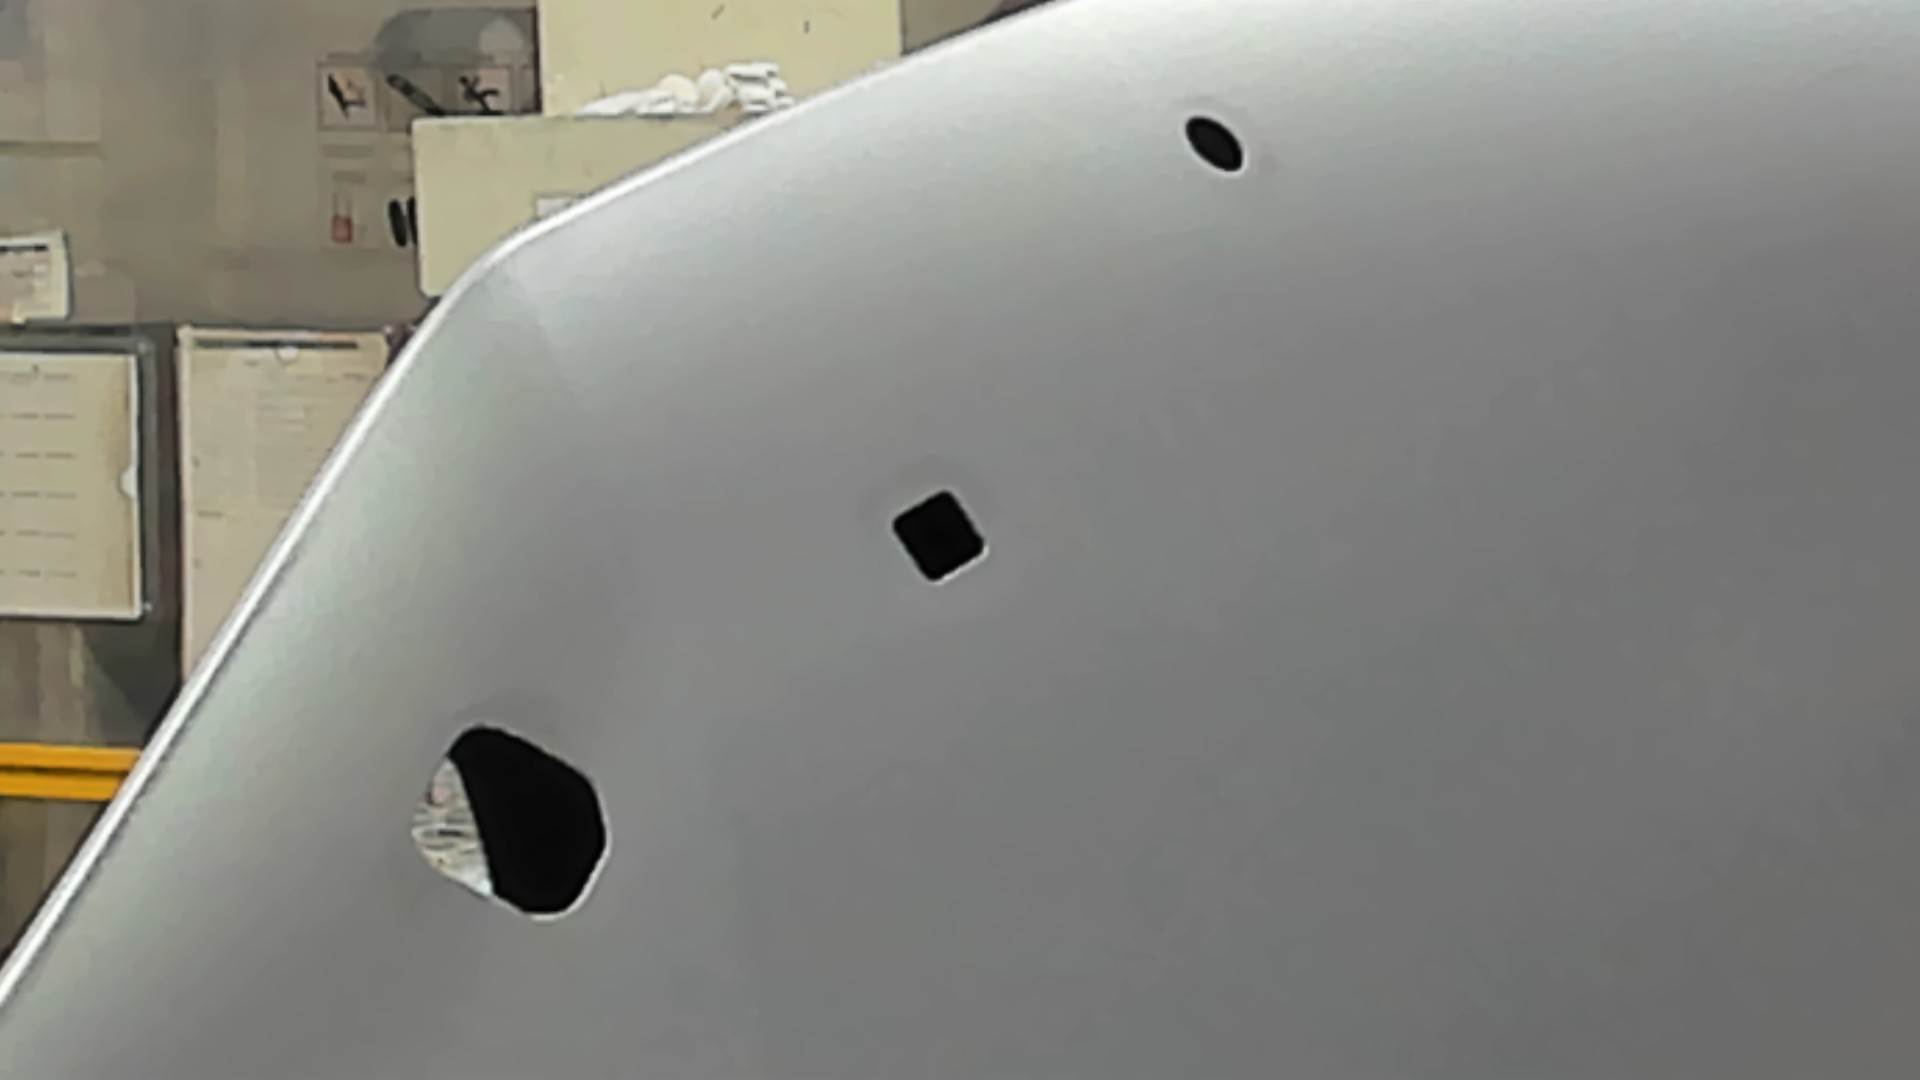chico: (1179, 108, 1250, 175)
grande: (398, 715, 613, 928)
mediano: (884, 483, 993, 589)
